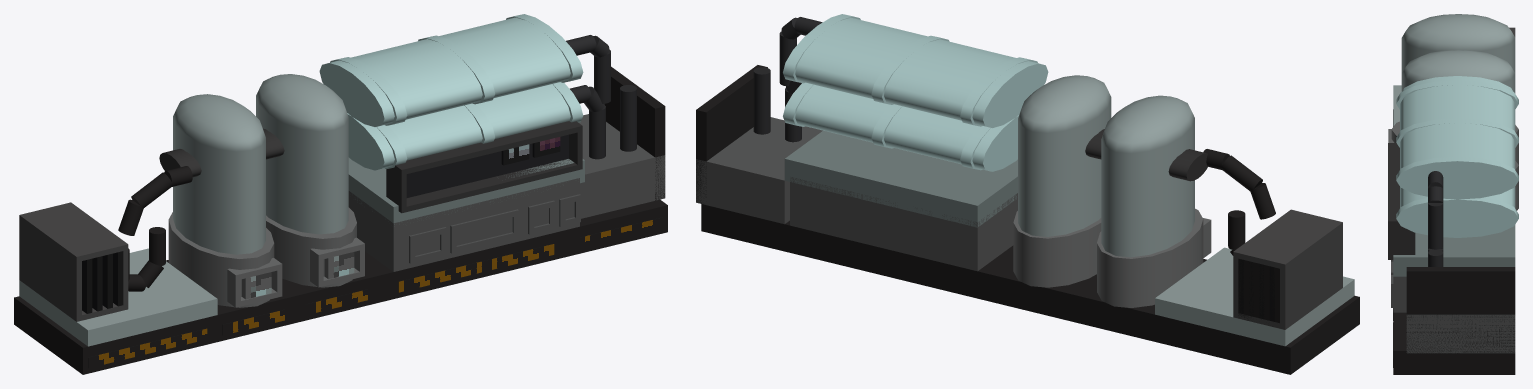
File: CMU3DFuelPumpCloud.glb
3 renders of one model, left to right at view 1: azimuth 30°, elevation 25°; view 2: azimuth 150°, elevation 25°; view 3: azimuth 270°, elevation 25°, orthographic. The views are drawn at different scales.
Visible parts, largest first — view 1: continuous pump skid, horizontal pump cylinder 0, vertical stainless tank 0, main control cabinet, vertical stainless tank 1, horizontal pump cylinder 1, left radiator platform, right outer pipe support, rounded tank shoulder 1, rounded tank shoulder 0, horizontal cylinder cradle, tank lower reinforcing collar 0 (+34 smaller); view 2: continuous pump skid, horizontal pump cylinder 0, horizontal cylinder cradle, main control cabinet, vertical stainless tank 0, vertical stainless tank 1, horizontal pump cylinder 1, right outer pipe support, left radiator platform, tank lower reinforcing collar 0, tank lower reinforcing collar 1, rounded tank shoulder 1 (+17 smaller); view 3: horizontal pump cylinder 0, right stop post, right outer pipe support, horizontal pump cylinder 1, rounded tank shoulder 0, continuous pump skid, horizontal cylinder cradle, rounded tank shoulder 1, cylinder collar (0, 102), cylinder collar (1, 102), main status enclosure top, vertical stainless tank 0 (+13 smaller).
Boxes of the visible parts, bbox=[...] form: continuous pump skid: bbox=[14, 199, 667, 374]; horizontal pump cylinder 0: bbox=[319, 17, 570, 126]; vertical stainless tank 0: bbox=[173, 116, 265, 254]; main control cabinet: bbox=[348, 178, 579, 271]; vertical stainless tank 1: bbox=[256, 97, 348, 234]; horizontal pump cylinder 1: bbox=[347, 84, 570, 170]; left radiator platform: bbox=[19, 248, 217, 346]; right outer pipe support: bbox=[579, 114, 665, 218]; rounded tank shoulder 1: bbox=[256, 74, 348, 131]; rounded tank shoulder 0: bbox=[173, 94, 265, 151]; horizontal cylinder cradle: bbox=[348, 157, 584, 226]; tank lower reinforcing collar 0: bbox=[168, 212, 274, 307]; continuous pump skid: bbox=[701, 204, 1359, 374]; horizontal pump cylinder 0: bbox=[795, 17, 1048, 128]; horizontal cylinder cradle: bbox=[784, 130, 1017, 227]; main control cabinet: bbox=[790, 177, 1017, 271]; vertical stainless tank 0: bbox=[1101, 118, 1194, 257]; vertical stainless tank 1: bbox=[1018, 98, 1111, 236]; horizontal pump cylinder 1: bbox=[795, 84, 1018, 171]; right outer pipe support: bbox=[696, 117, 822, 224]; left radiator platform: bbox=[1155, 247, 1354, 346]; tank lower reinforcing collar 0: bbox=[1097, 208, 1203, 307]; tank lower reinforcing collar 1: bbox=[1013, 211, 1101, 287]; rounded tank shoulder 1: bbox=[1018, 75, 1111, 133]; horizontal pump cylinder 0: bbox=[1400, 76, 1515, 199]; right stop post: bbox=[1406, 267, 1515, 353]; right outer pipe support: bbox=[1406, 314, 1515, 353]; horizontal pump cylinder 1: bbox=[1400, 186, 1515, 237]; rounded tank shoulder 0: bbox=[1402, 14, 1515, 51]; continuous pump skid: bbox=[1393, 312, 1515, 374]; horizontal cylinder cradle: bbox=[1393, 225, 1515, 276]; rounded tank shoulder 1: bbox=[1402, 50, 1515, 82]; cylinder collar (0, 102): bbox=[1396, 156, 1518, 199]; cylinder collar (1, 102): bbox=[1396, 197, 1518, 237]; main status enclosure top: bbox=[1388, 143, 1400, 226]; vertical stainless tank 0: bbox=[1401, 38, 1515, 73].
Bounding box in the file's own units: 3.56 × 1.16 × 0.77.
25 materials, 11 textured.
